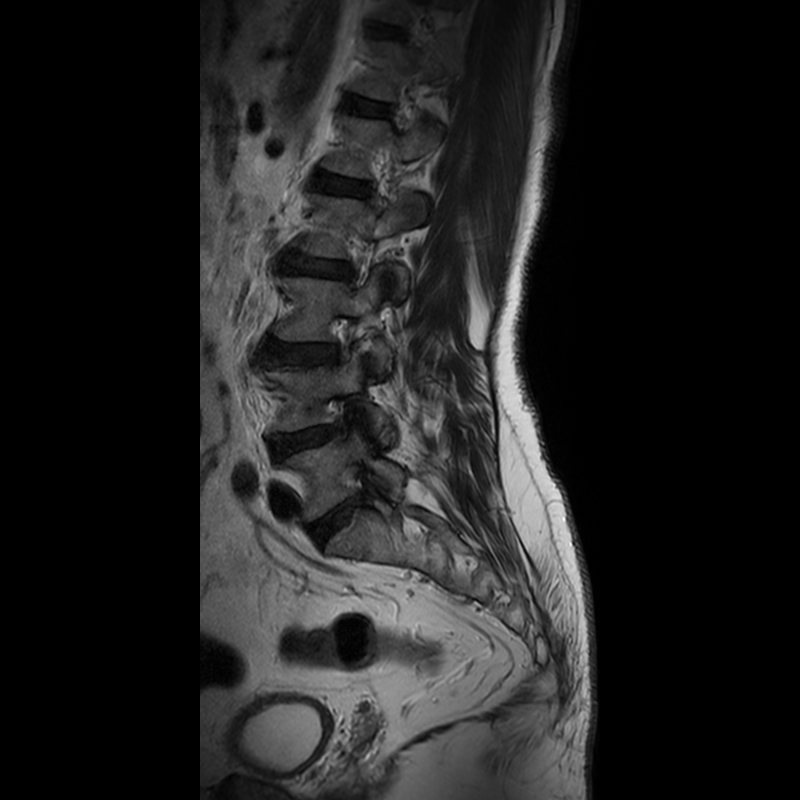LFS0: (336, 224, 385, 298)
LFS1: (320, 302, 374, 382)
LFS3: (314, 389, 366, 452)
